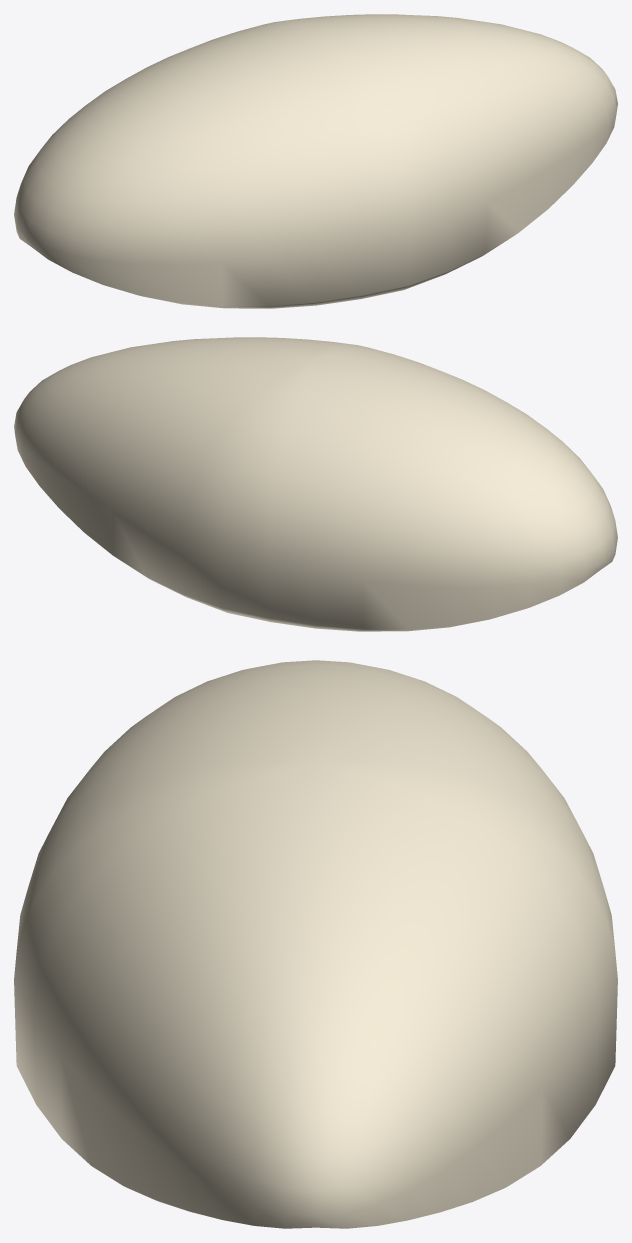
Rendered from cowrie_a2.glb.
3 views of the same model, one above another, from view 1: azimuth 30°, elevation 25°; view 2: azimuth 150°, elevation 25°; view 3: azimuth 270°, elevation 25° (orthographic). The views are drawn at different scales.
Visible parts, largest first — view 1: cowrie_a2; view 2: cowrie_a2; view 3: cowrie_a2.
Part boxes in pixels (x1,y1,x2,y2): cowrie_a2: (14, 14, 617, 308); cowrie_a2: (14, 337, 617, 631); cowrie_a2: (14, 660, 617, 1228).
Size of the model in its own units: 0.026 by 0.00848 by 0.014.
